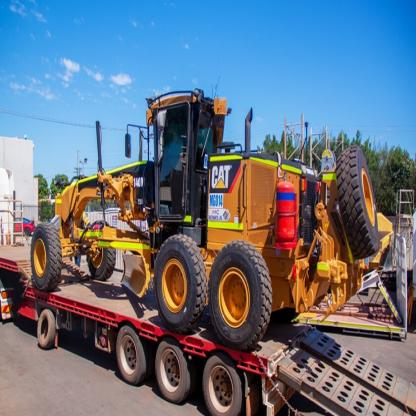bull_dozer/loader/grader: (28, 77, 388, 348)
